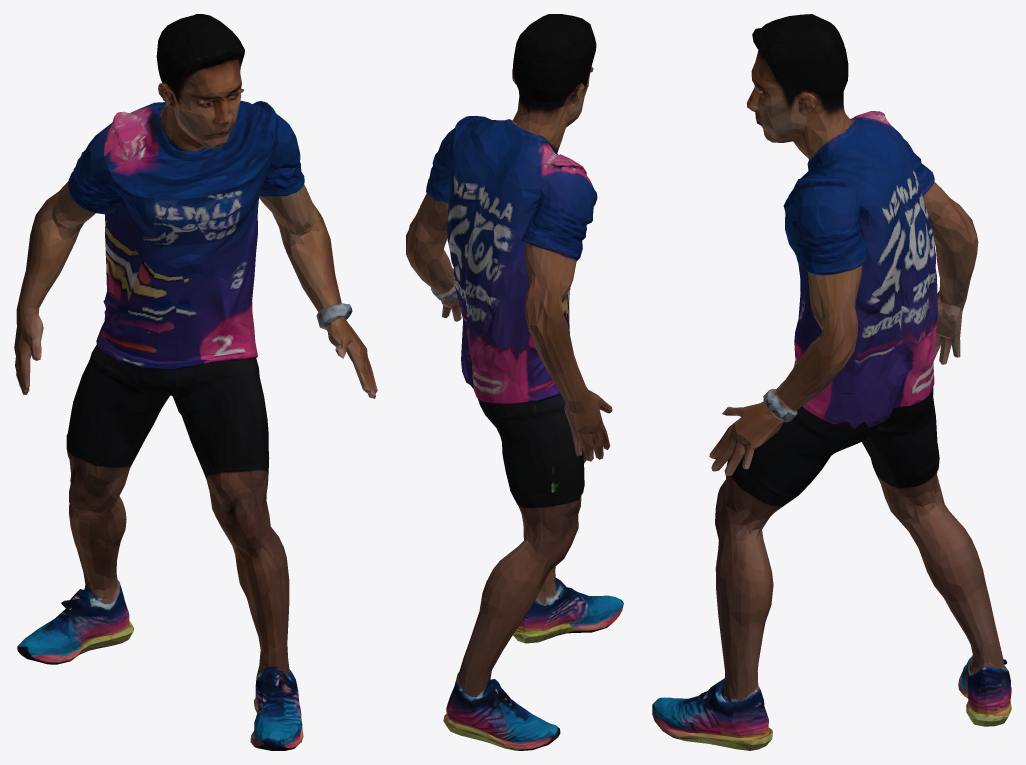
The model's file is half_1_idle.glb.
3 renders of one model, left to right at view 1: azimuth 30°, elevation 25°; view 2: azimuth 150°, elevation 25°; view 3: azimuth 270°, elevation 25°, orthographic. The views are drawn at different scales.
Parts seen in each view (by area): view 1: tripo_node_3e64b601; view 2: tripo_node_3e64b601; view 3: tripo_node_3e64b601.
Boxes of the visible parts, x1=… form: tripo_node_3e64b601: x1=14, y1=14, x2=377, y2=750; tripo_node_3e64b601: x1=406, y1=14, x2=623, y2=750; tripo_node_3e64b601: x1=652, y1=14, x2=1011, y2=750.
Size of the model in its own units: 38.07 by 94.88 by 44.05.
1 material, 1 textured.
